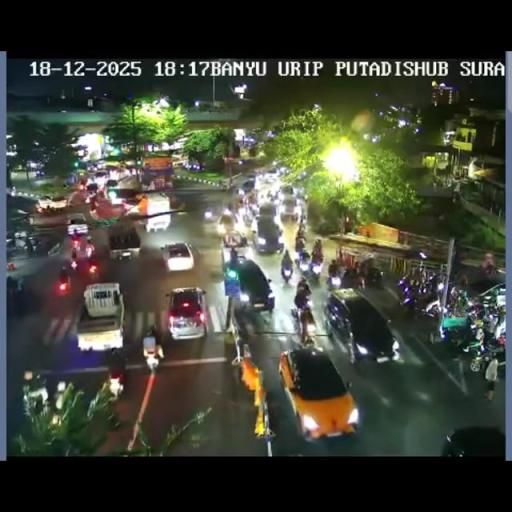Car: (278, 346, 356, 441), (324, 289, 400, 362), (76, 284, 125, 352), (224, 254, 274, 312), (166, 287, 208, 339), (441, 425, 505, 455), (253, 210, 284, 254), (138, 192, 171, 230), (106, 228, 140, 262), (161, 241, 194, 272), (221, 228, 250, 262), (477, 282, 505, 310), (278, 192, 301, 222), (38, 195, 68, 213), (66, 216, 88, 237), (239, 178, 257, 195), (261, 168, 281, 182), (92, 170, 109, 186), (86, 182, 98, 194), (106, 178, 118, 190)
Motorcycle: (398, 277, 444, 318), (438, 312, 476, 354), (294, 279, 314, 342), (22, 372, 48, 414), (480, 317, 505, 355), (448, 288, 470, 314), (107, 370, 125, 399), (362, 264, 384, 287), (468, 346, 487, 372), (465, 302, 486, 324), (143, 346, 160, 371), (217, 211, 234, 235), (326, 268, 344, 290), (308, 254, 323, 278), (6, 275, 22, 296), (228, 195, 242, 219), (24, 236, 42, 254), (296, 247, 311, 267), (340, 266, 354, 287), (281, 258, 293, 282), (203, 204, 217, 222), (6, 237, 19, 256), (88, 260, 99, 280), (354, 273, 366, 290), (248, 199, 259, 217), (250, 214, 259, 236), (58, 265, 69, 283), (312, 238, 322, 257), (296, 231, 306, 247), (270, 188, 280, 202), (483, 263, 494, 275), (298, 212, 306, 226), (70, 256, 78, 270), (85, 244, 93, 258), (452, 191, 461, 203), (86, 233, 92, 243)
